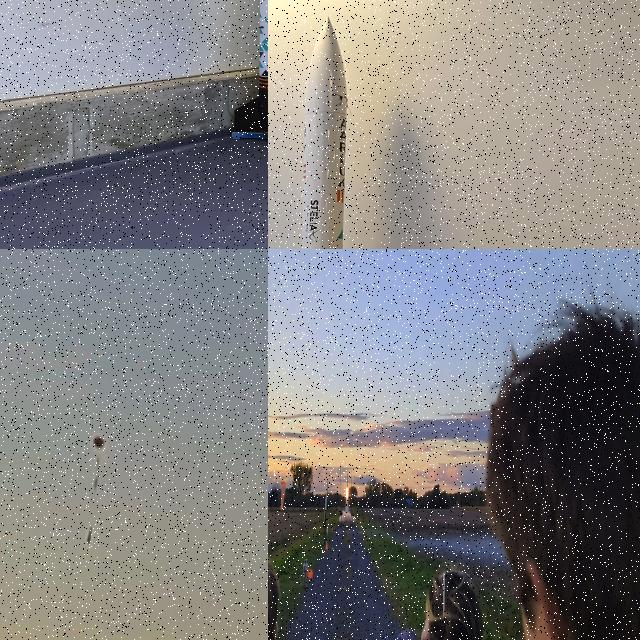Rocket: (302, 16, 347, 249), (86, 524, 94, 546), (346, 472, 348, 489)
